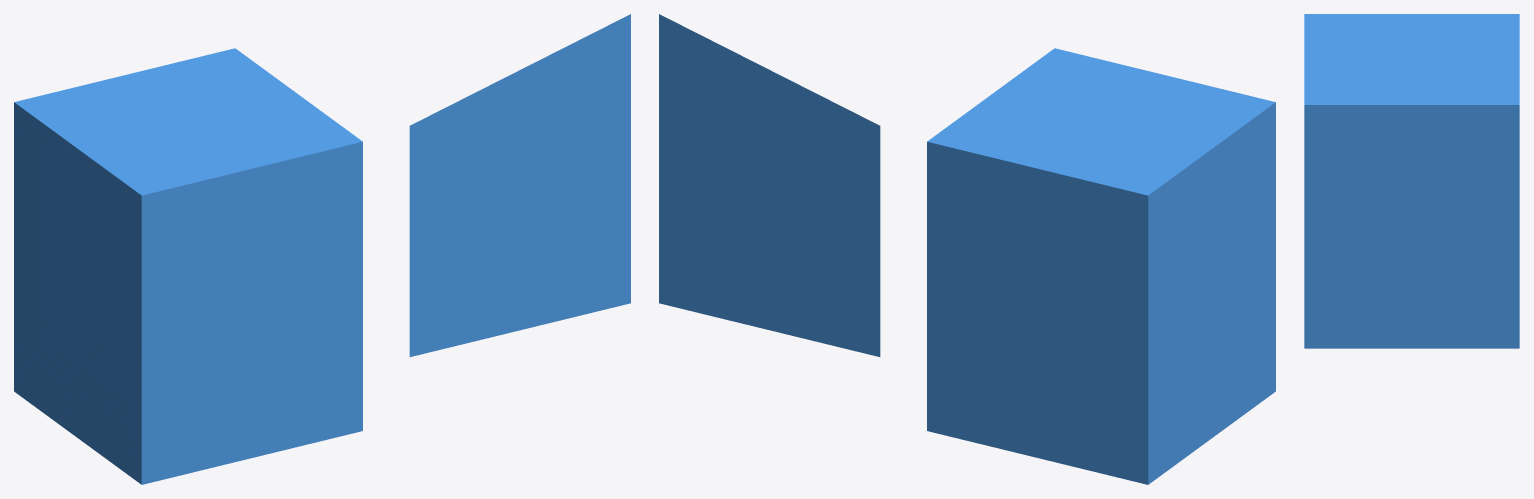
File: chatgpt_selftest.glb
The picture shows the model from 3 angles, left to right: view 1: azimuth 30°, elevation 25°; view 2: azimuth 150°, elevation 25°; view 3: azimuth 270°, elevation 25°; orthographic projection. The views are drawn at different scales.
Visible parts, largest first — view 1: Updated Selftest Cube, Selftest Mesh; view 2: Updated Selftest Cube, Selftest Mesh; view 3: Updated Selftest Cube.
Part boxes in pixels (x1,y1,x2,y2): Updated Selftest Cube: [14, 48, 362, 484]; Selftest Mesh: [409, 14, 630, 356]; Updated Selftest Cube: [927, 48, 1275, 484]; Selftest Mesh: [659, 14, 880, 356]; Updated Selftest Cube: [1304, 14, 1519, 348].
Size of the model in its own units: 0.625 by 0.3125 by 0.25.
Materials: 1 (1 with a texture image).
